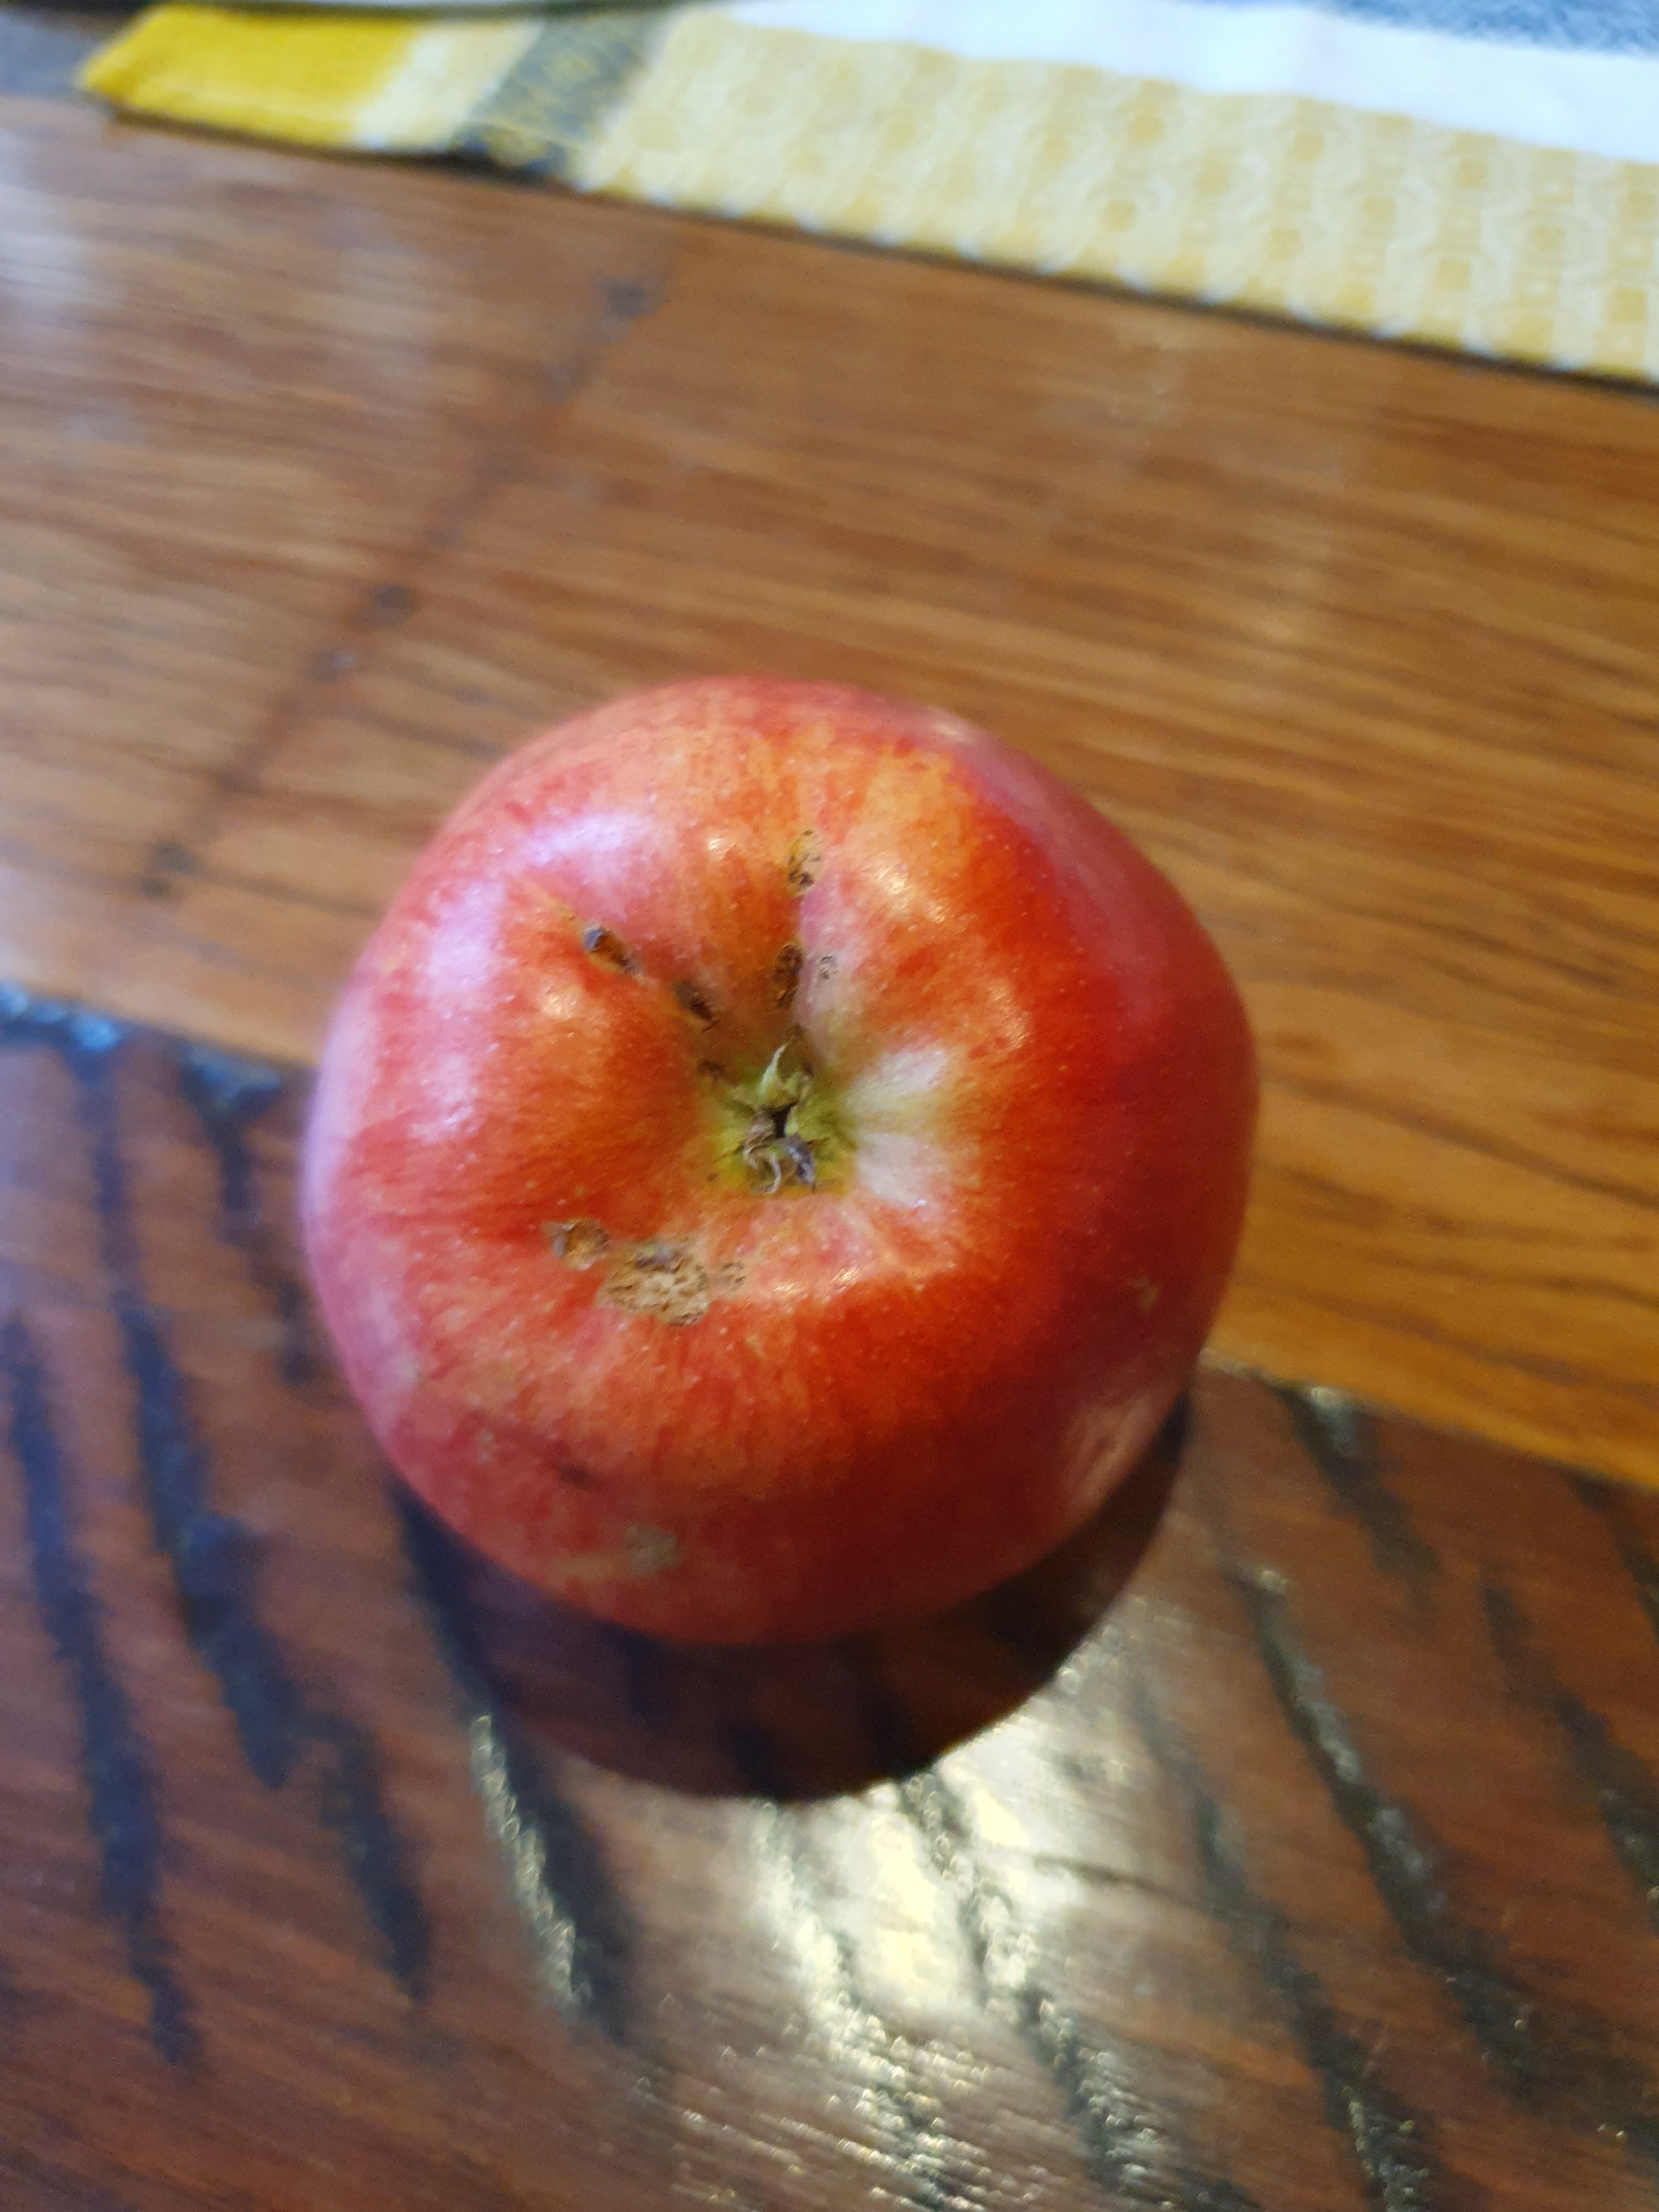red_apple: (288, 601, 1265, 1676)
